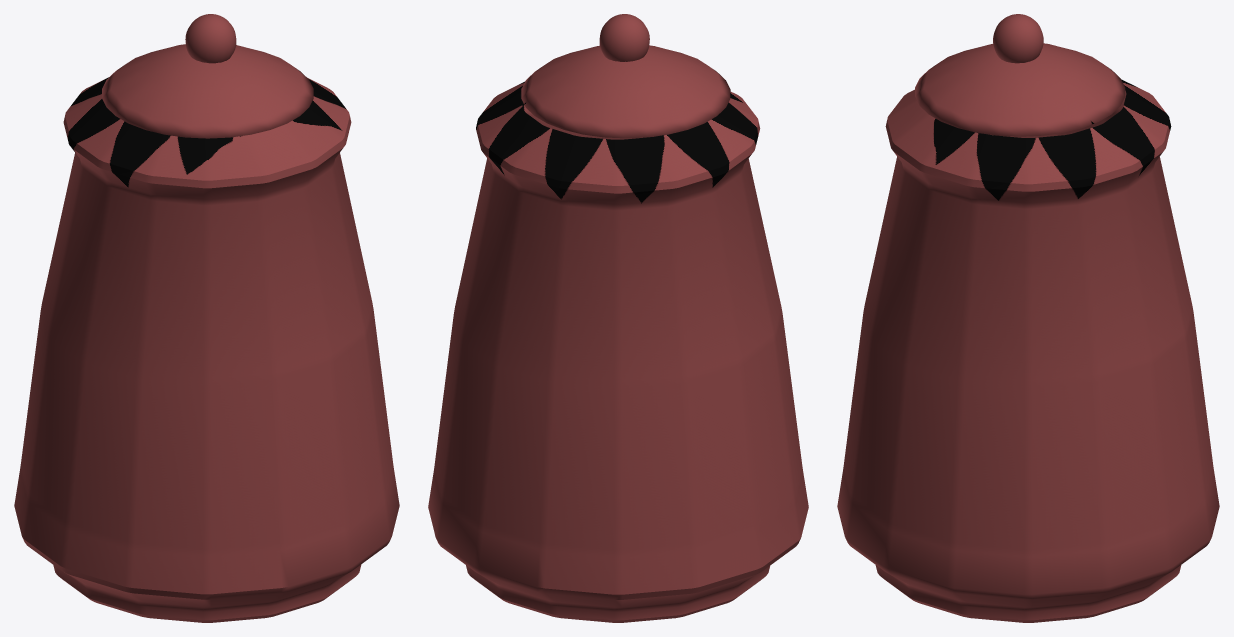
File: RedJar.fbx
The picture shows the model from 3 angles, left to right: view 1: azimuth 30°, elevation 25°; view 2: azimuth 150°, elevation 25°; view 3: azimuth 270°, elevation 25°; orthographic projection.
Parts seen in each view (by area): view 1: RedJar; view 2: RedJar; view 3: RedJar.
Boxes of the visible parts, left/top/right/bottom form: RedJar: left=14, top=14, right=399, bottom=622; RedJar: left=428, top=14, right=808, bottom=622; RedJar: left=837, top=14, right=1219, bottom=622.
Size of the model in its own units: 14.06 by 22.11 by 14.14.
Materials: 1 (1 with a texture image).
